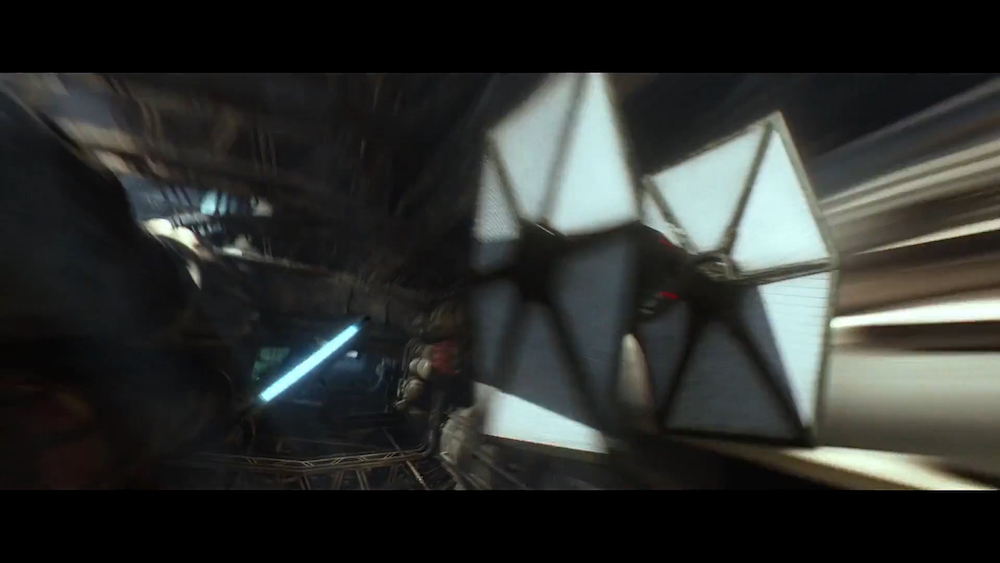Millennium Falcon: (250, 316, 368, 416)
Tie Fighter: (461, 74, 842, 466)
